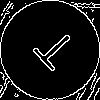T: (25, 25, 80, 78)
